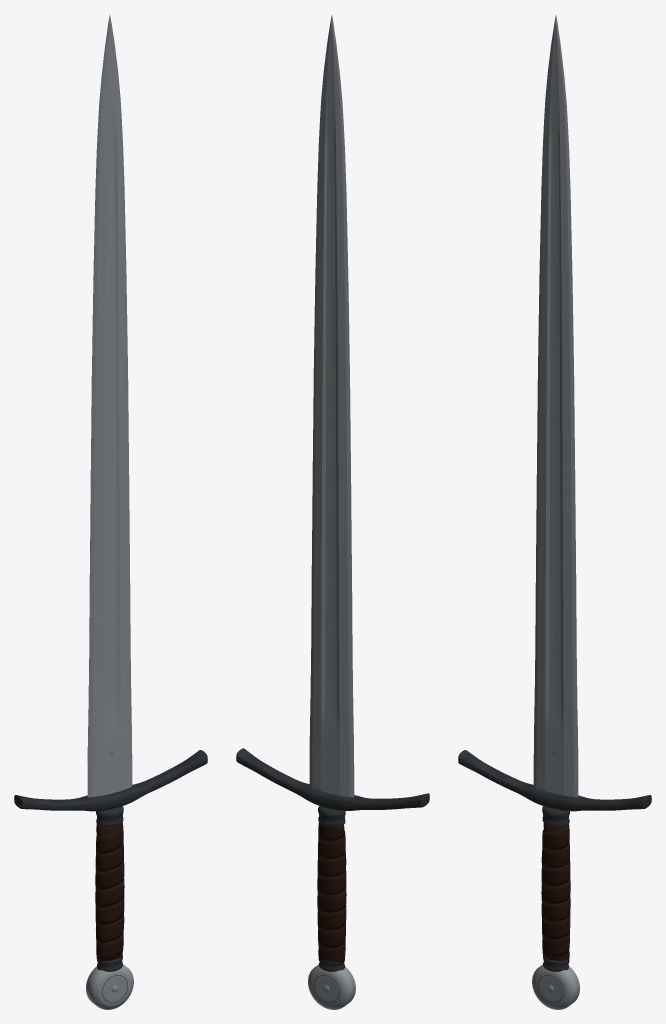
File: Aetheria_T1_Ironblade.fbx
3 renders of one model, left to right at view 1: azimuth 30°, elevation 25°; view 2: azimuth 150°, elevation 25°; view 3: azimuth 330°, elevation 25°, orthographic.
Visible parts, largest first — view 1: Ironblade_01_Blade, Ironblade_04_LeatherWrap, Ironblade_02_Crossguard, Ironblade_07_SteelPommel, Ironblade_05_UpperFerrule; view 2: Ironblade_01_Blade, Ironblade_04_LeatherWrap, Ironblade_02_Crossguard, Ironblade_07_SteelPommel, Ironblade_05_UpperFerrule; view 3: Ironblade_01_Blade, Ironblade_04_LeatherWrap, Ironblade_02_Crossguard, Ironblade_07_SteelPommel, Ironblade_05_UpperFerrule.
Part boxes in pixels (x1,y1,x2,y2): Ironblade_01_Blade: (87,15,132,797); Ironblade_04_LeatherWrap: (95,822,124,961); Ironblade_02_Crossguard: (14,750,207,811); Ironblade_07_SteelPommel: (86,964,133,1009); Ironblade_05_UpperFerrule: (96,806,123,826); Ironblade_01_Blade: (309,15,354,797); Ironblade_04_LeatherWrap: (317,822,346,965); Ironblade_02_Crossguard: (236,748,429,810); Ironblade_07_SteelPommel: (308,964,355,1009); Ironblade_05_UpperFerrule: (318,806,345,826); Ironblade_01_Blade: (533,15,578,797); Ironblade_04_LeatherWrap: (541,823,570,963); Ironblade_02_Crossguard: (458,750,651,811); Ironblade_07_SteelPommel: (532,964,579,1009); Ironblade_05_UpperFerrule: (542,806,569,826).
Bounding box in the file's own units: 0.2 × 1.02 × 0.0219.
